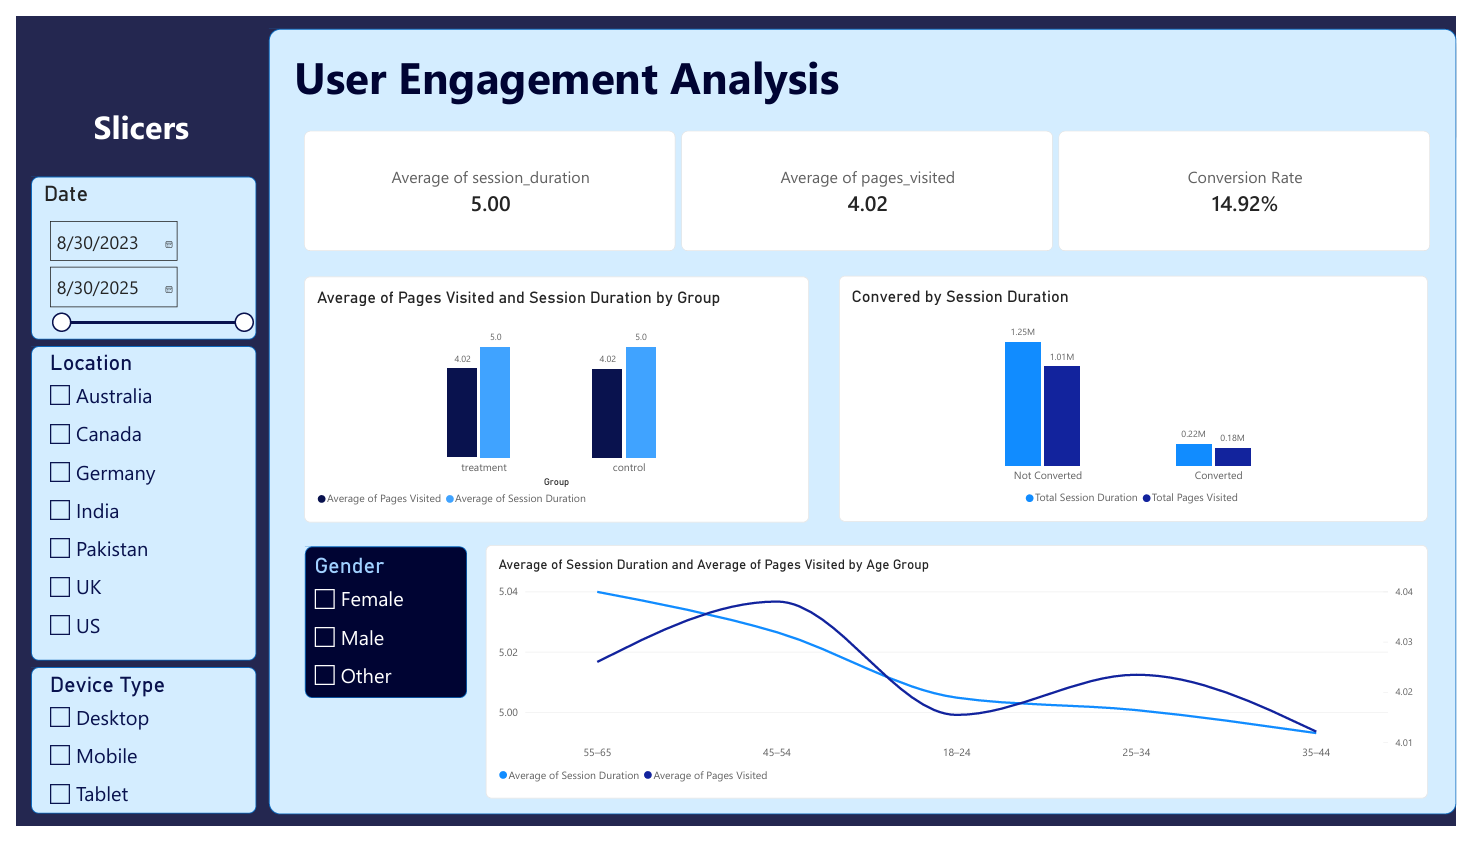

This screenshot's page, from the dashboard's own definition file:
{"tool":"powerbi","page":{"name":"User Engagement Analysis","canvas":[1920,1080],"ordinal":1},"visuals":[{"type":"shape","box":[336.2,15.9,1583.1,1047.1],"z":0},{"type":"textbox","box":[368.6,40.4,758.7,83.2],"z":1000},{"type":"cardVisual","fields":{"Data":["Avg(AB Testing Data.session_duration)","Avg(AB Testing Data.pages_visited)","AB Testing Data.Conversion Rate"]},"box":[382.9,152.2,1503,159.3],"z":2000},{"type":"clusteredColumnChart","title":"Average of Pages Visited and Session Duration by Group","fields":{"Category":["AB Testing Data.group"],"Y":["Avg(AB Testing Data.pages_visited)","Avg(AB Testing Data.session_duration)"]},"box":[382.9,345.6,673,328.2],"z":3000},{"type":"clusteredColumnChart","title":"Convered by Session Duration","fields":{"Y":["Sum(AB Testing Data.session_duration)","Sum(AB Testing Data.pages_visited)"],"Category":["Dimension Convert.converted_label"]},"box":[1096.4,344.8,784.8,328.2],"z":4000},{"type":"lineChart","fields":{"Category":["AB Testing Data.Age Group"],"Y":["Avg(AB Testing Data.session_duration)"],"Y2":["Avg(AB Testing Data.pages_visited)"]},"box":[625.5,704,1255.7,337.7],"z":5000},{"type":"shape","box":[19,213.3,299.7,216.4],"z":6000},{"type":"slicer","title":"Date","fields":{"Values":["AB Testing Data.date"]},"box":[35.7,218,283,216.4],"z":7000},{"type":"shape","box":[19,867.1,299.7,195],"z":8000},{"type":"shape","box":[19,439.4,299.7,418.6],"z":9000},{"type":"textbox","box":[102.3,116.5,166.5,71.3],"z":10000},{"type":"slicer","fields":{"Values":["AB Testing Data.location"]},"box":[35.7,443.7,299.7,418.6],"z":11000},{"type":"slicer","fields":{"Values":["AB Testing Data.device_type"]},"box":[35.7,872.6,299.7,195],"z":12000},{"type":"shape","box":[383.8,705.9,216.4,202.1],"z":13000},{"type":"slicer","fields":{"Values":["AB Testing Data.gender"]},"box":[388.5,715.4,178.4,202.1],"z":14000}]}

Visuals, with their boxes in screenshot pixels (x1, y1, x2, y2), scaled from the page's 1920x1080 canvas onto the 1474x845 screenshot:
shape: x1=258, y1=12, x2=1473, y2=832
textbox: x1=283, y1=32, x2=865, y2=97
cardVisual - Avg(AB Testing Data.session_duration) x Avg(AB Testing Data.pages_visited): x1=294, y1=119, x2=1448, y2=244
"Average of Pages Visited and Session Duration by Group" clusteredColumnChart: x1=294, y1=270, x2=811, y2=527
"Convered by Session Duration" clusteredColumnChart: x1=842, y1=270, x2=1444, y2=527
lineChart - AB Testing Data.Age Group x Avg(AB Testing Data.session_duration): x1=480, y1=551, x2=1444, y2=815
shape: x1=15, y1=167, x2=245, y2=336
"Date" slicer: x1=27, y1=171, x2=245, y2=340
shape: x1=15, y1=678, x2=245, y2=831
shape: x1=15, y1=344, x2=245, y2=671
textbox: x1=79, y1=91, x2=206, y2=147
slicer - AB Testing Data.location: x1=27, y1=347, x2=257, y2=675
slicer - AB Testing Data.device_type: x1=27, y1=683, x2=257, y2=835
shape: x1=295, y1=552, x2=461, y2=710
slicer - AB Testing Data.gender: x1=298, y1=560, x2=435, y2=718
